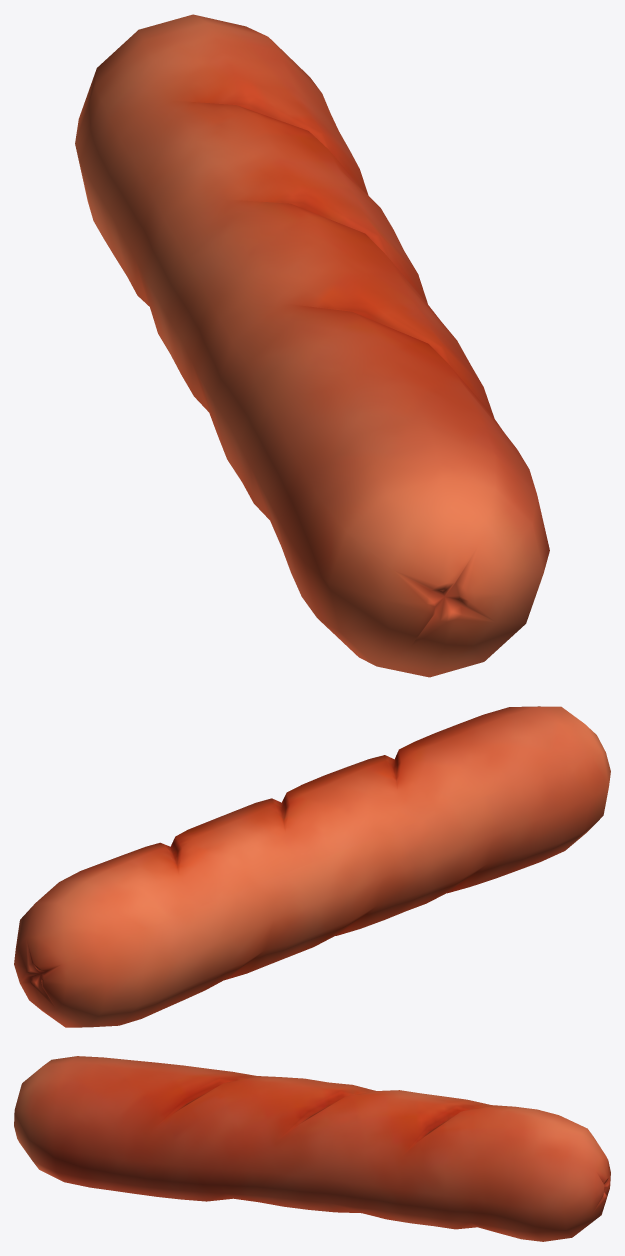
File: BBQHotdog.obj
3 views of the same model, one above another, from view 1: azimuth 30°, elevation 25°; view 2: azimuth 150°, elevation 25°; view 3: azimuth 270°, elevation 25° (orthographic). The views are drawn at different scales.
Visible parts, largest first — view 1: XiangChang4; view 2: XiangChang4; view 3: XiangChang4.
Boxes of the visible parts, x1,y1,x2,y2 form: XiangChang4: (75, 14, 549, 677); XiangChang4: (14, 706, 610, 1027); XiangChang4: (14, 1056, 610, 1241).
Size of the model in its own units: 0.8805 by 0.4396 by 1.95.
